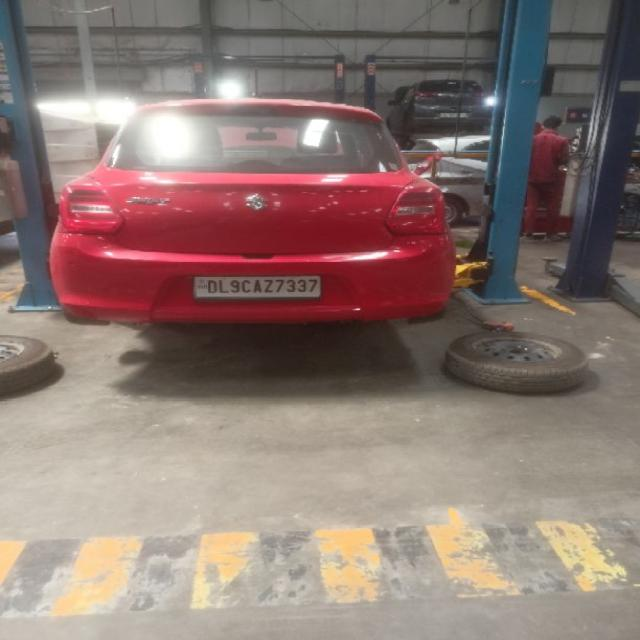license_plate: (191, 274, 322, 300)
